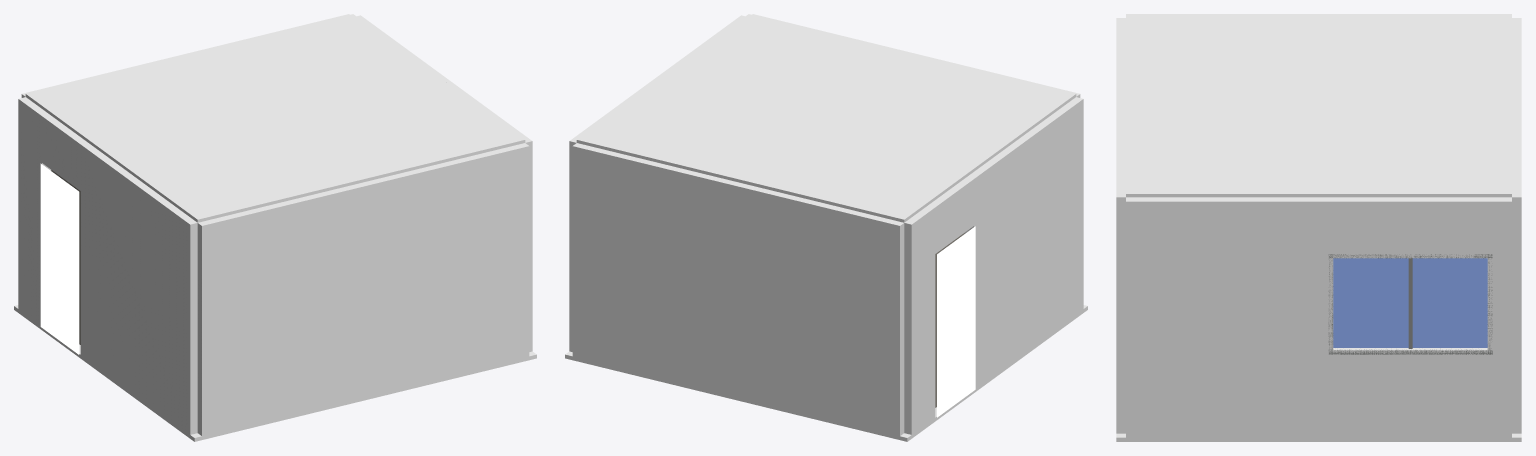
Rendered from NightShift.glb.
3 views of the same model, side by side, from view 1: azimuth 30°, elevation 25°; view 2: azimuth 150°, elevation 25°; view 3: azimuth 270°, elevation 25° (orthographic). The views are drawn at different scales.
Parts seen in each view (by area): view 1: Room, Door_Light; view 2: Room, Door_Light; view 3: Room, Window_Glass, Window_Frame.
Part boxes in pixels (bbox=[...]): Room: bbox=[14, 14, 536, 441]; Door_Light: bbox=[40, 163, 79, 354]; Room: bbox=[565, 14, 1087, 441]; Door_Light: bbox=[937, 226, 975, 417]; Room: bbox=[1116, 14, 1521, 441]; Window_Glass: bbox=[1333, 258, 1487, 347]; Window_Frame: bbox=[1328, 254, 1492, 354].
Bounding box in the file's own units: 4.62 × 2.79 × 4.2.
